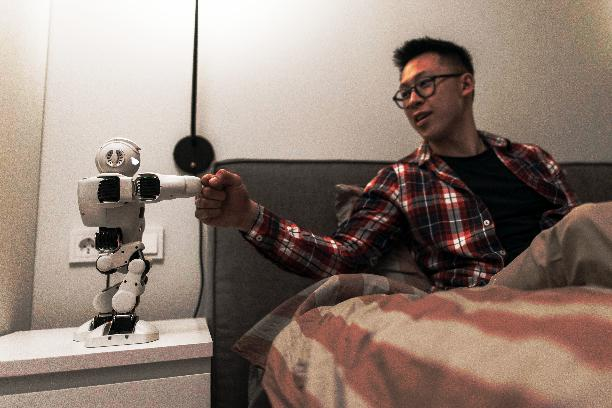Rock: (186, 159, 258, 242)
